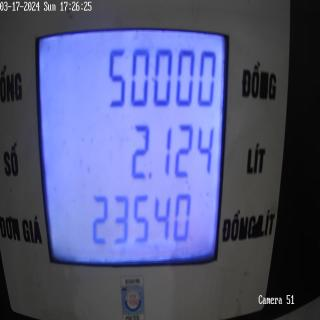screen: (32, 8, 232, 280)
